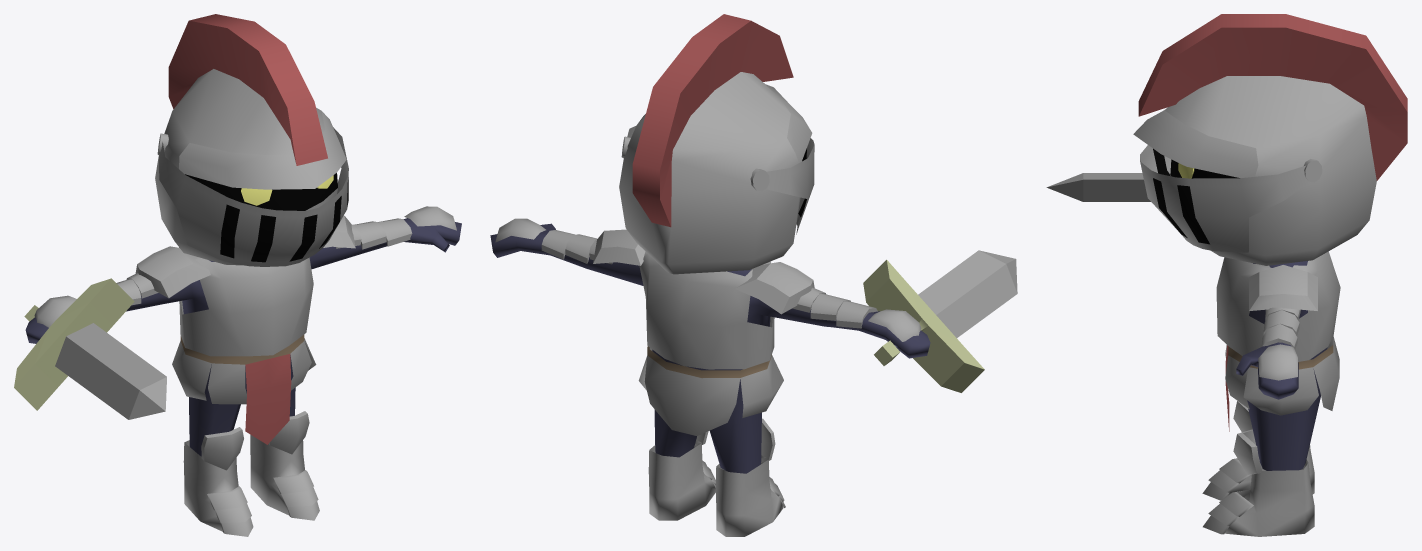
File: knight.fbx
3 renders of one model, left to right at view 1: azimuth 30°, elevation 25°; view 2: azimuth 150°, elevation 25°; view 3: azimuth 270°, elevation 25°, orthographic. The views are drawn at different scales.
Parts seen in each view (by area): view 1: head, yoroi, sord, body; view 2: head, yoroi, sord, body; view 3: head, yoroi, body, sord.
Part boxes in pixels (<box>): head: <box>155,14,348,266</box>; yoroi: <box>34,206,456,536</box>; sord: <box>14,278,166,419</box>; body: <box>25,218,461,456</box>; head: <box>619,14,814,274</box>; yoroi: <box>495,218,921,536</box>; sord: <box>863,250,1017,392</box>; body: <box>490,223,930,473</box>; head: <box>1133,14,1407,265</box>; yoroi: <box>1202,251,1340,536</box>; body: <box>1236,261,1327,470</box>; sord: <box>1046,173,1150,201</box>.
Size of the model in its own units: 1.02 by 0.9868 by 0.6602.
